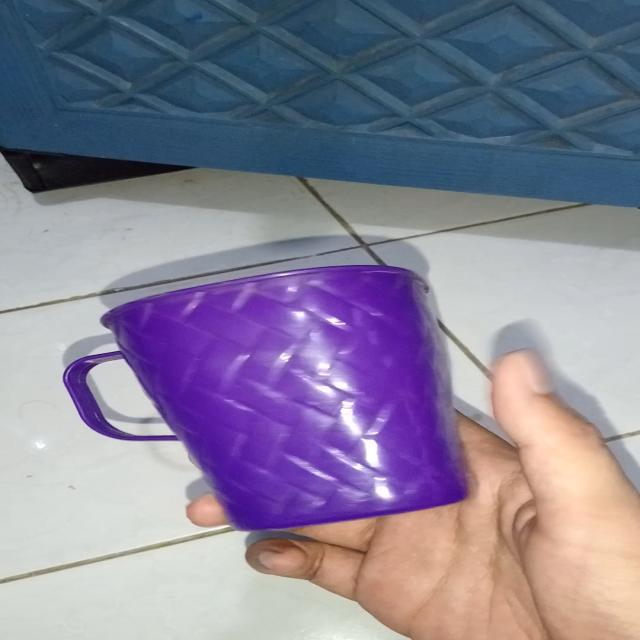gelas bekas: (63, 262, 472, 532)
